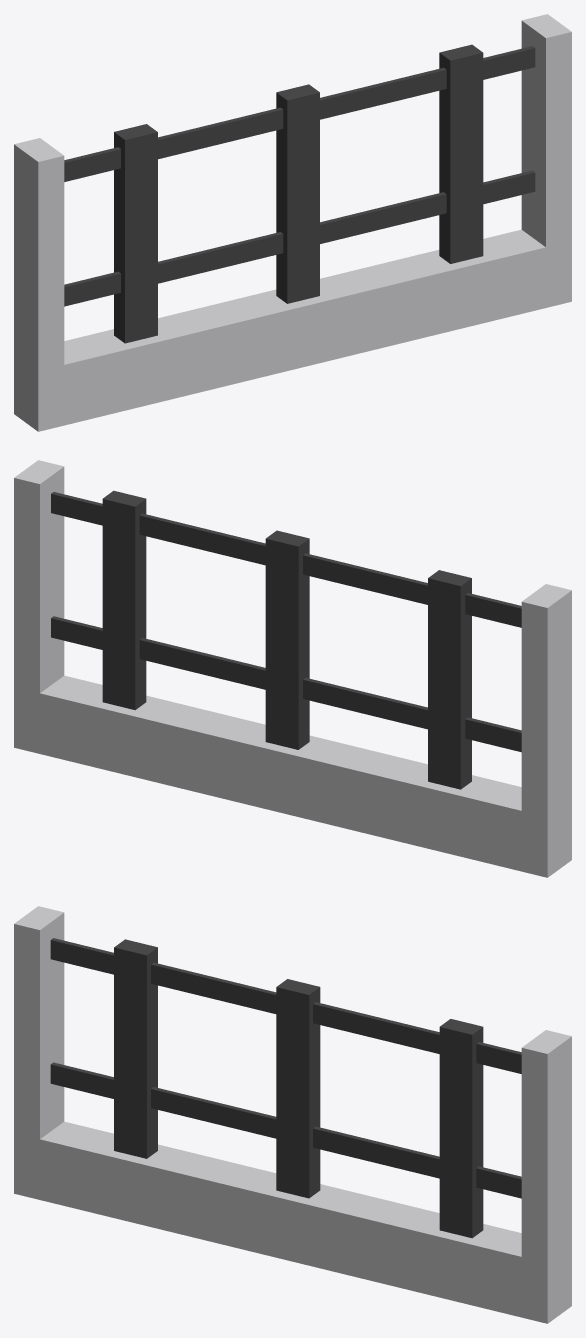
Rendered from fence5.FBX.
The picture shows the model from 3 angles, top to bottom: view 1: azimuth 30°, elevation 25°; view 2: azimuth 150°, elevation 25°; view 3: azimuth 330°, elevation 25°; orthographic projection.
Parts seen in each view (by area): view 1: fence5; view 2: fence5; view 3: fence5.
Part boxes in pixels (x1,y1,x2,y2): fence5: [14, 14, 571, 431]; fence5: [14, 460, 571, 877]; fence5: [14, 906, 571, 1323].
Size of the model in its own units: 9.58 by 4.63 by 0.7565.
